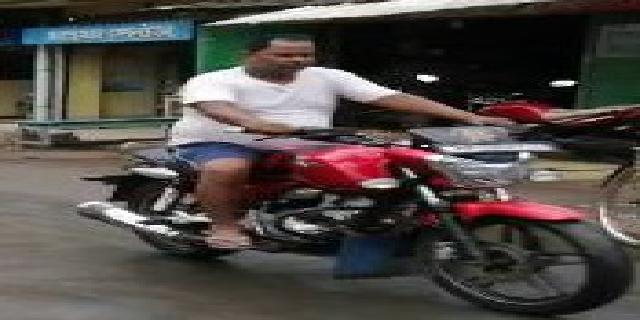Motorbike: (74, 32, 634, 313)
